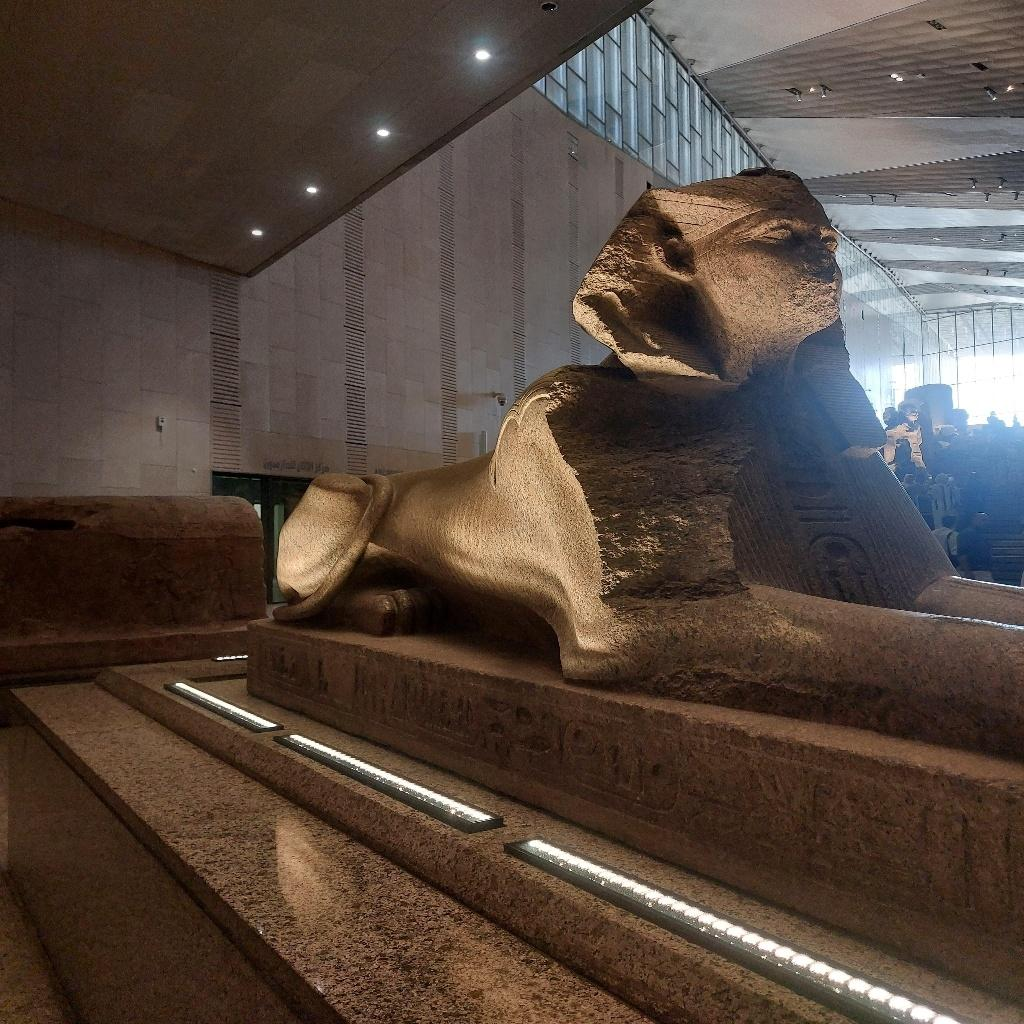Sphinx of Kings Ramesses ll - Merenptah: (264, 168, 1022, 748)
